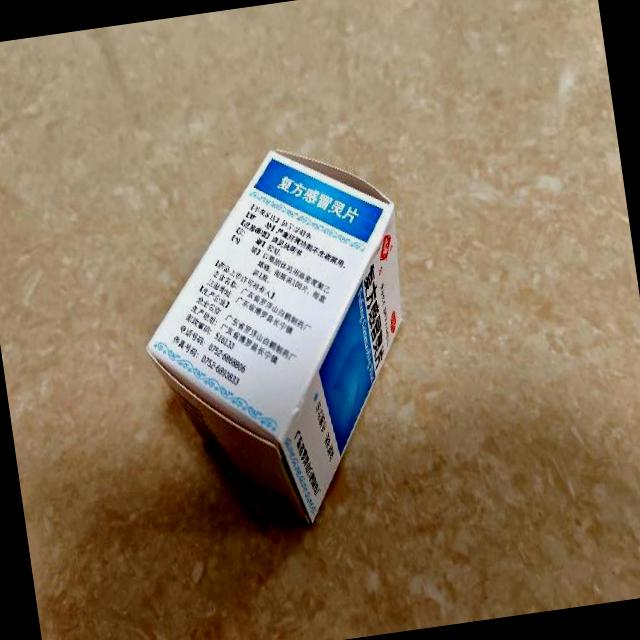box: (122, 132, 436, 544)
